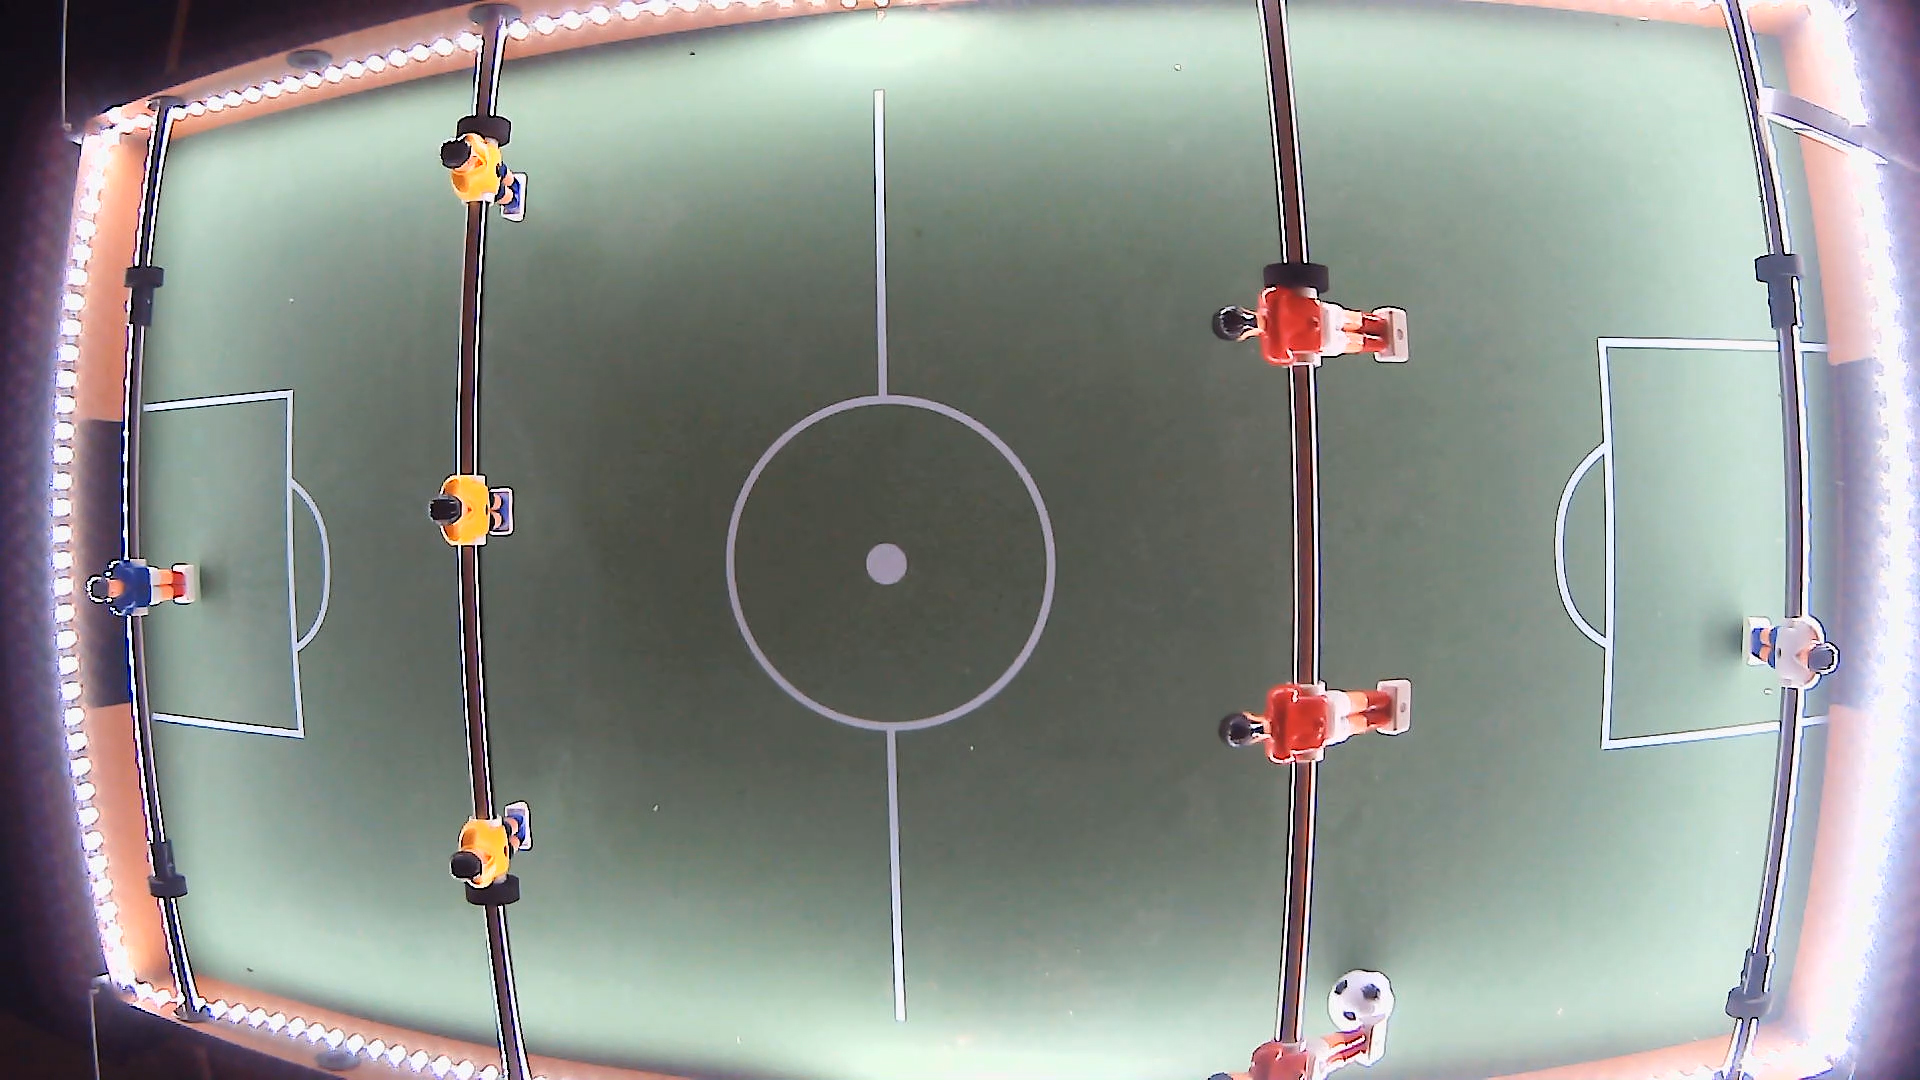Foosball: (1327, 971, 1394, 1036)
